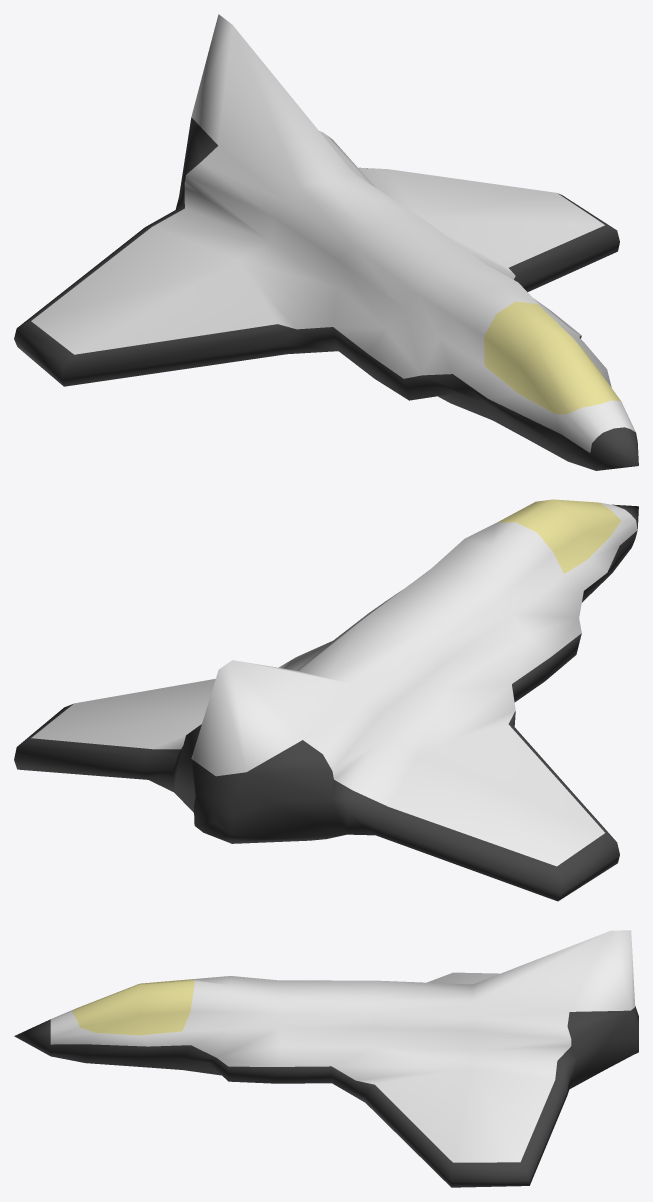
3 renders of one model, top to bottom at view 1: azimuth 30°, elevation 25°; view 2: azimuth 150°, elevation 25°; view 3: azimuth 270°, elevation 25°, orthographic. The views are drawn at different scales.
Parts seen in each view (by area): view 1: Cube; view 2: Cube; view 3: Cube.
Part boxes in pixels (<box>): Cube: <box>14,14,638,470</box>; Cube: <box>14,499,638,901</box>; Cube: <box>14,930,638,1187</box>.
Size of the model in its own units: 2.16 by 2.86 by 0.8017.
